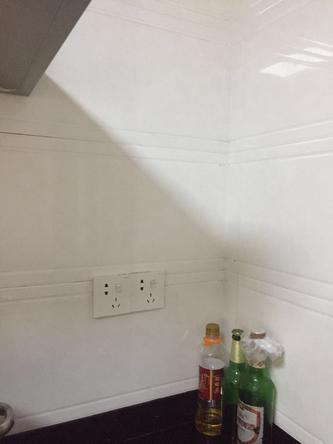switch: (112, 281, 128, 296), (146, 277, 165, 289)
